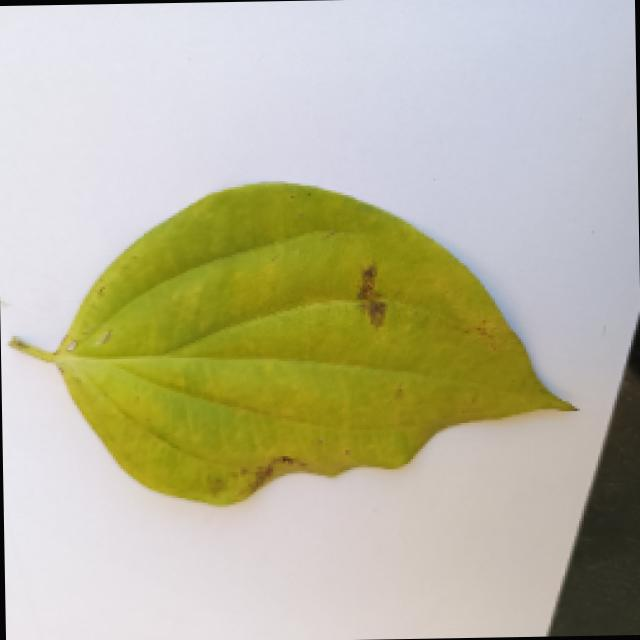slow-decline: (5, 180, 588, 523)
